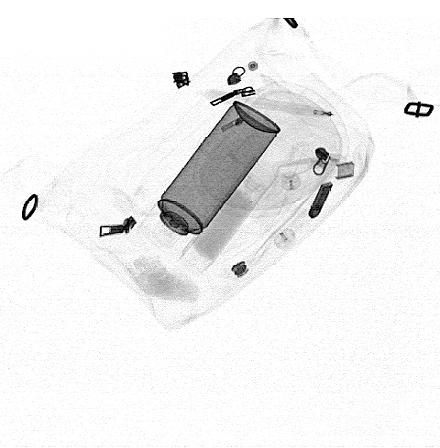Sprayer: (137, 101, 280, 263)
